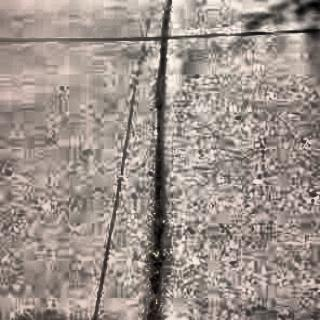crack: (146, 0, 173, 320), (90, 130, 128, 320), (0, 26, 320, 45), (119, 48, 143, 149)
